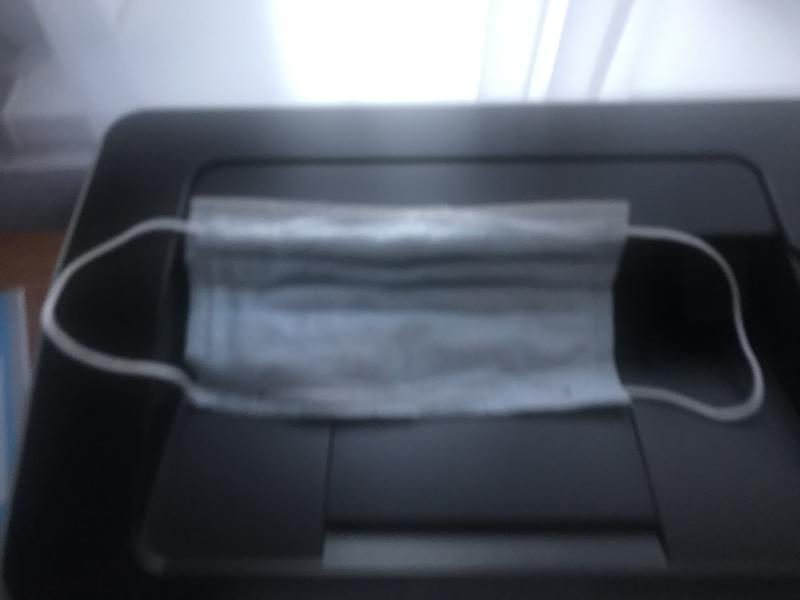medical_mask: (41, 193, 765, 422)
